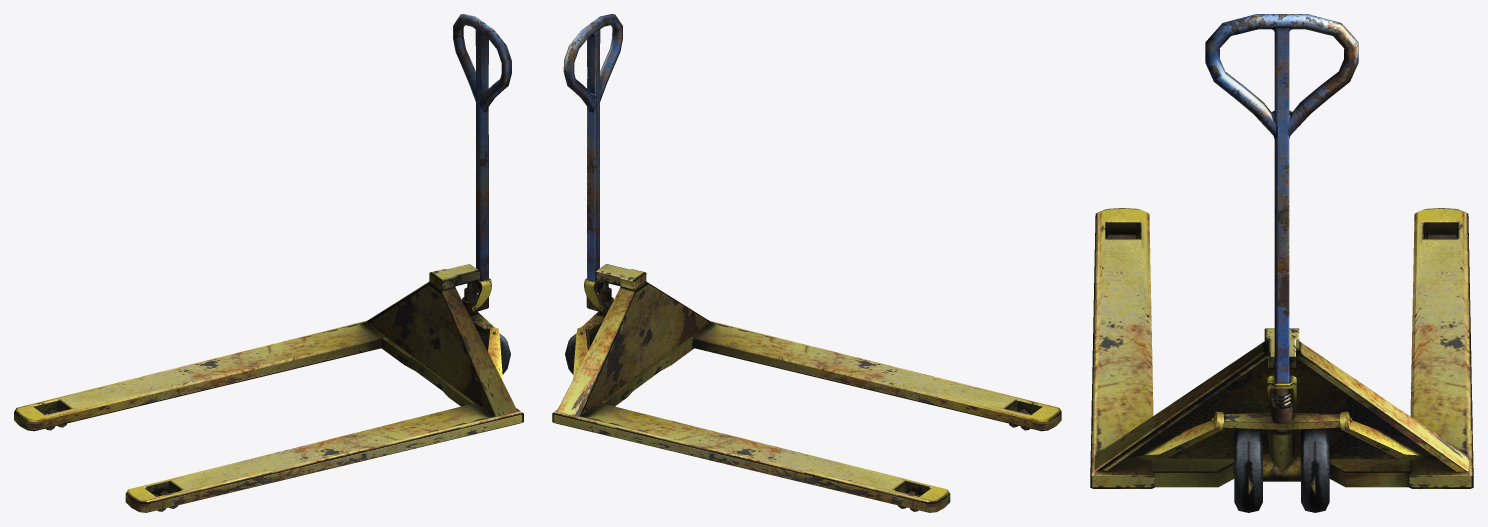
File: HandTruck.glb
3 renders of one model, left to right at view 1: azimuth 30°, elevation 25°; view 2: azimuth 150°, elevation 25°; view 3: azimuth 270°, elevation 25°, orthographic. The views are drawn at different scales.
Parts seen in each view (by area): view 1: HandTruck; view 2: HandTruck; view 3: HandTruck.
Boxes of the visible parts, box(x1,y1,x2,y2) form: HandTruck: box(14, 14, 523, 512); HandTruck: box(552, 14, 1061, 512); HandTruck: box(1090, 14, 1473, 512).
Size of the model in its own units: 1.74 by 1.38 by 0.9555.
1 material, 1 textured.
